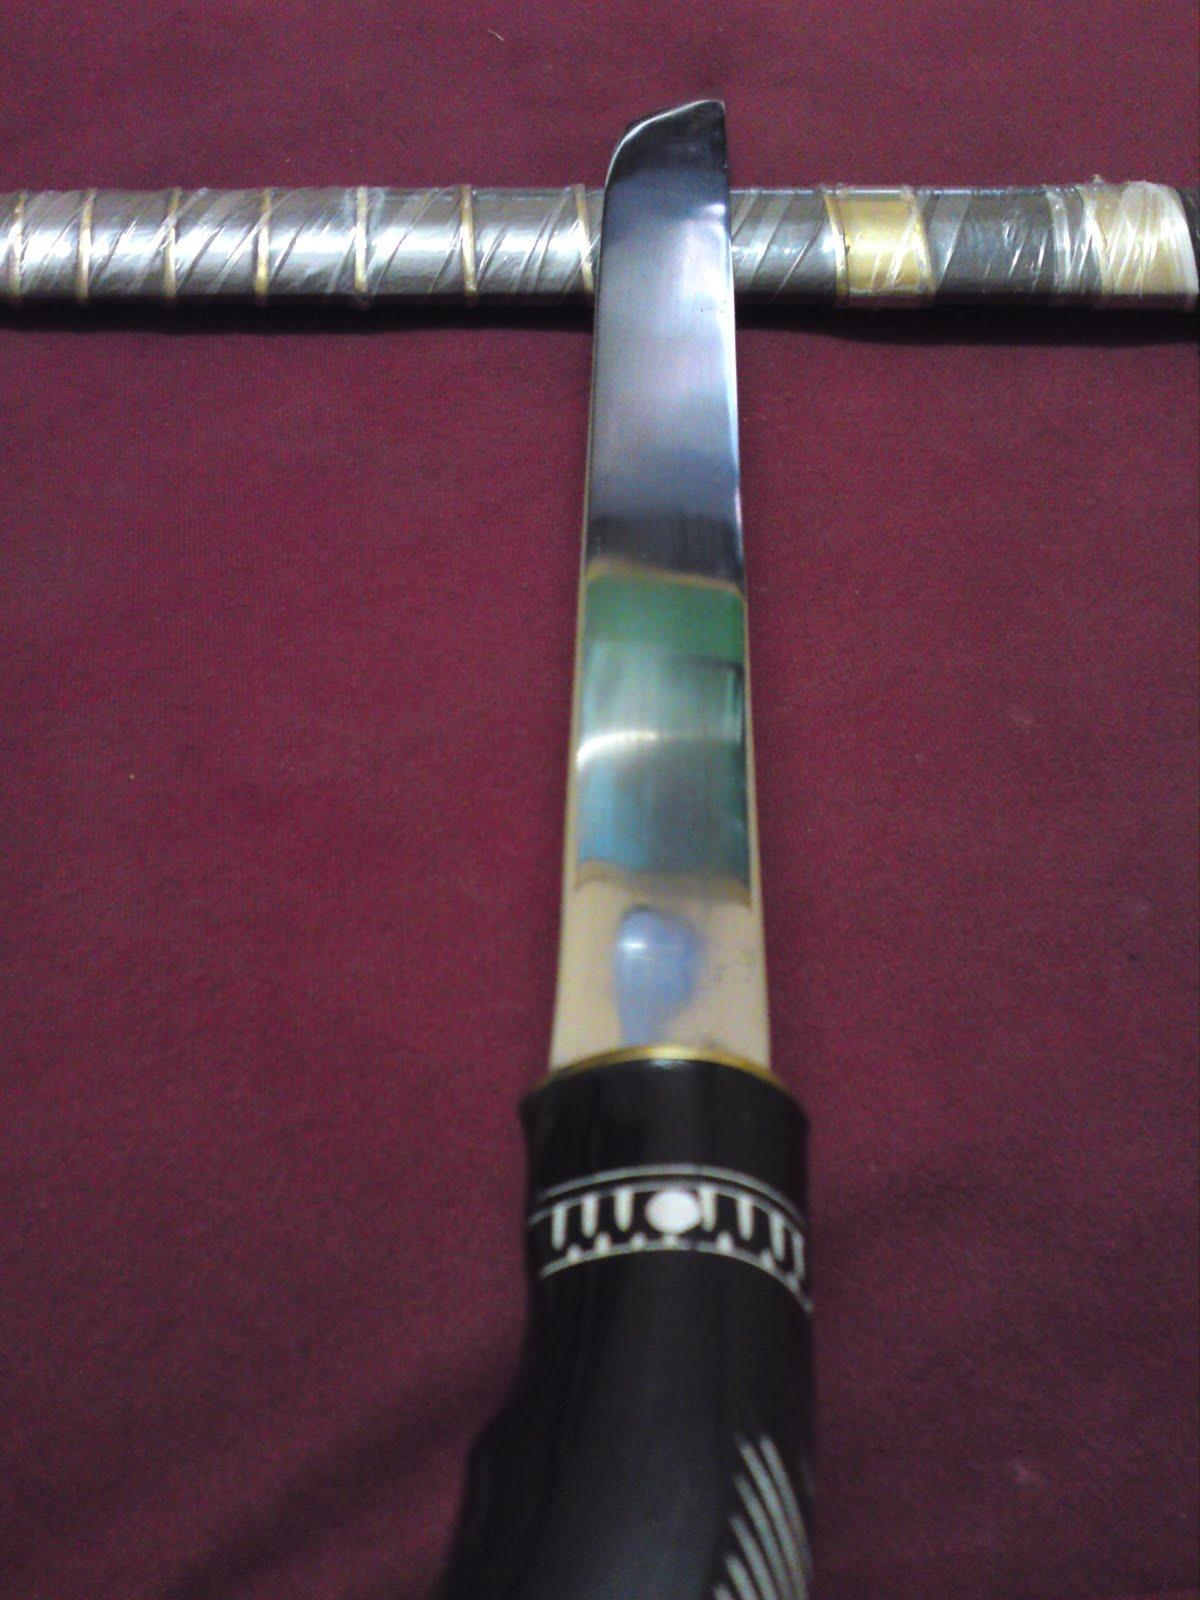facao: (527, 92, 816, 1600)
